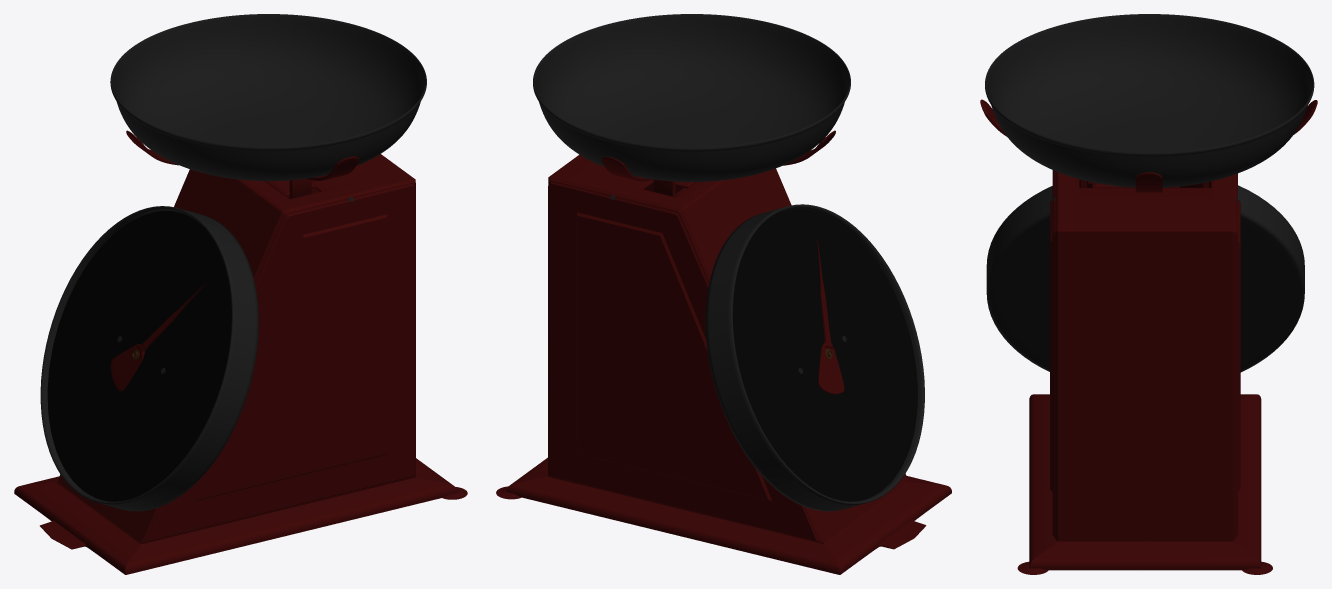
Rendered from kitchen_weighing.FBX.
3 views of the same model, side by side, from view 1: azimuth 30°, elevation 25°; view 2: azimuth 150°, elevation 25°; view 3: azimuth 270°, elevation 25° (orthographic). The views are drawn at different scales.
Parts seen in each view (by area): view 1: Shape001, Shape003, Group004, Box002, Group003, Box003, Rectangle002; view 2: Shape001, Shape003, Group004, Box002, Group003, Box003, Rectangle002; view 3: Box002, Shape003, Group003, Shape001, Rectangle002.
Part boxes in pixels (box(x1,y1,x2,y2)): Shape001: box(146, 183, 414, 541); Shape003: box(110, 14, 426, 181); Group004: box(47, 211, 231, 501); Box002: box(14, 154, 467, 574); Group003: box(40, 206, 258, 511); Box003: box(110, 282, 206, 391); Rectangle002: box(126, 130, 358, 180); Shape001: box(549, 181, 819, 541); Shape003: box(533, 14, 850, 181); Group004: box(733, 209, 917, 501); Box002: box(496, 154, 951, 574); Group003: box(705, 204, 924, 511); Box003: box(817, 238, 844, 394); Rectangle002: box(601, 130, 835, 181); Box002: box(1017, 171, 1272, 574); Shape003: box(985, 14, 1314, 187); Group003: box(986, 185, 1304, 372); Shape001: box(1050, 170, 1240, 536); Rectangle002: box(980, 99, 1317, 192).
Bounding box in the file's own units: 205 × 220 × 160.
